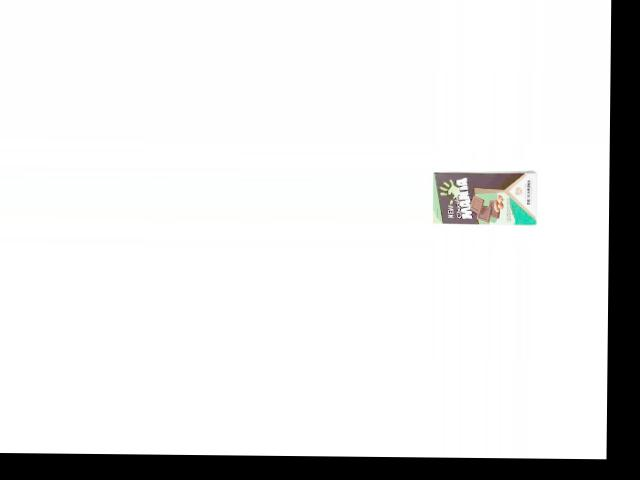chocolate: (430, 168, 539, 227)
